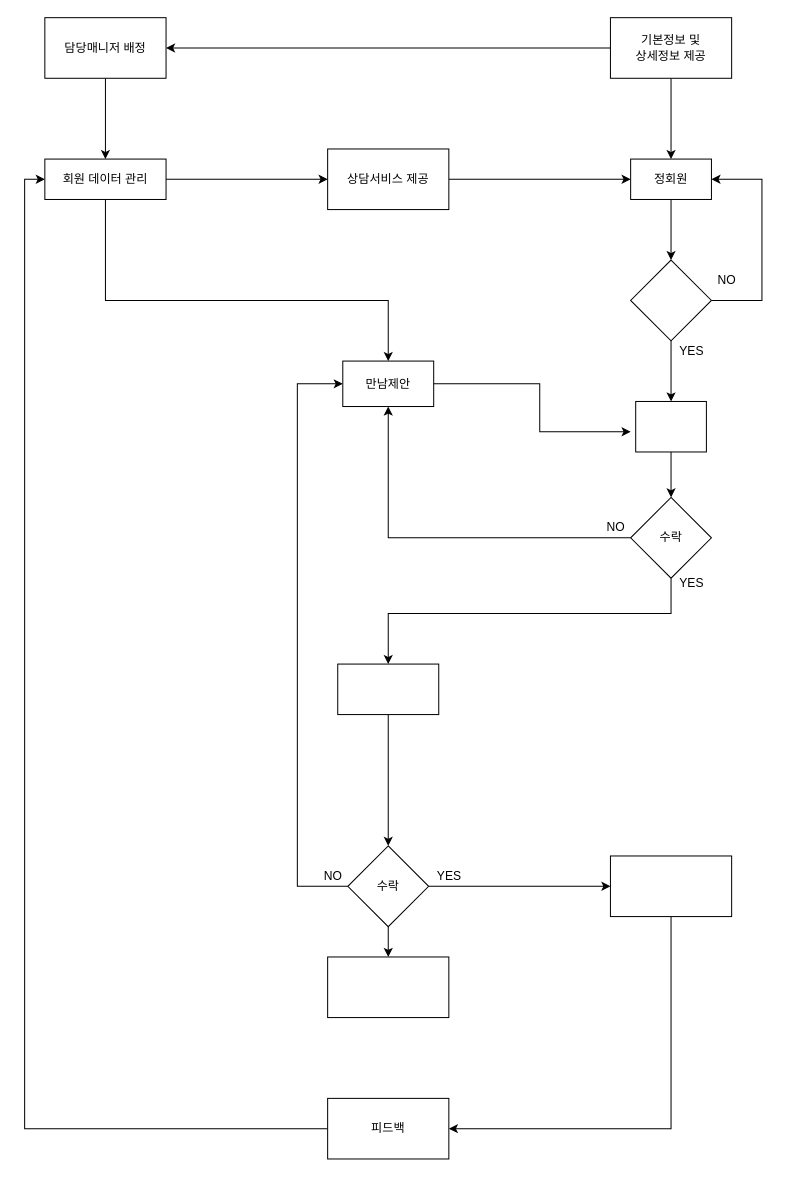
Some shapes in this 788 by 1177 pixel diagram are drawn without their labels. Here are the shapes that lost their labels. From the top down, the box of each, then its label:
(630, 259, 711, 341): 가입비 납부
(635, 400, 706, 452): 유료회원
(337, 663, 439, 715): 상대회원에 만남 제안
(609, 855, 732, 917): 만남
(327, 956, 449, 1018): 회원에게 결과 통보
